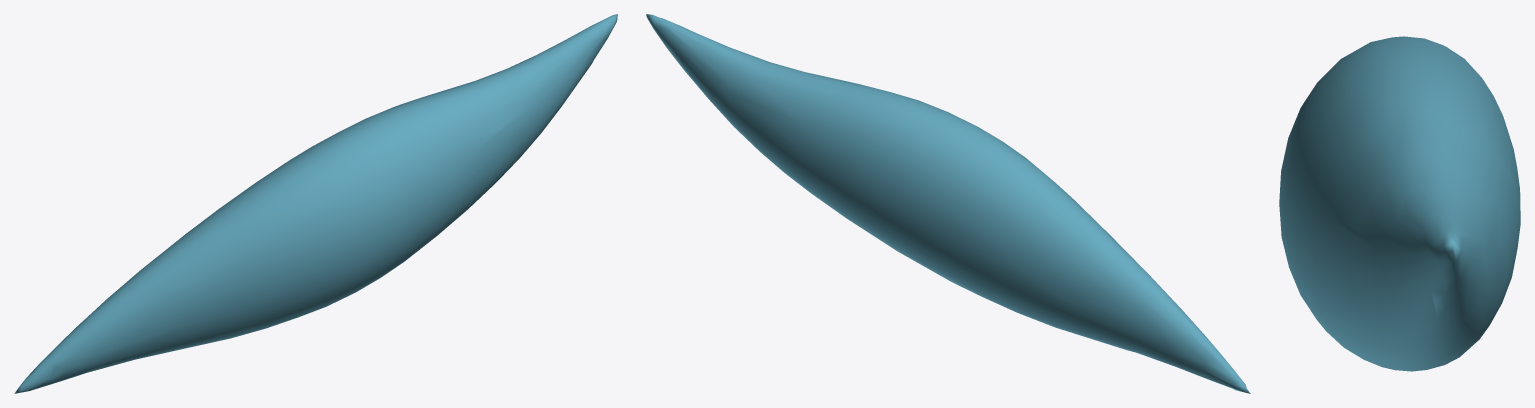
File: Sap_6.fbx
3 renders of one model, left to right at view 1: azimuth 30°, elevation 25°; view 2: azimuth 150°, elevation 25°; view 3: azimuth 270°, elevation 25°, orthographic. The views are drawn at different scales.
Visible parts, largest first — view 1: BlueSap_F_PooledSeam; view 2: BlueSap_F_PooledSeam; view 3: BlueSap_F_PooledSeam.
Part boxes in pixels (x1=…): BlueSap_F_PooledSeam: x1=14, y1=14, x2=617, y2=393; BlueSap_F_PooledSeam: x1=646, y1=14, x2=1250, y2=393; BlueSap_F_PooledSeam: x1=1279, y1=36, x2=1520, y2=371.
Size of the model in its own units: 102 by 37.82 by 17.73.
